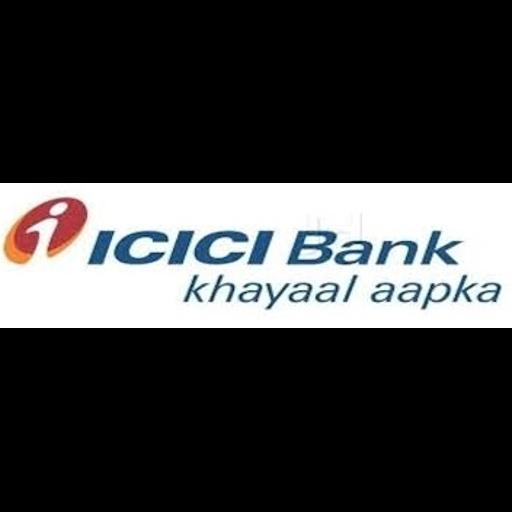ICICI Bank Limited: (0, 183, 512, 328)
